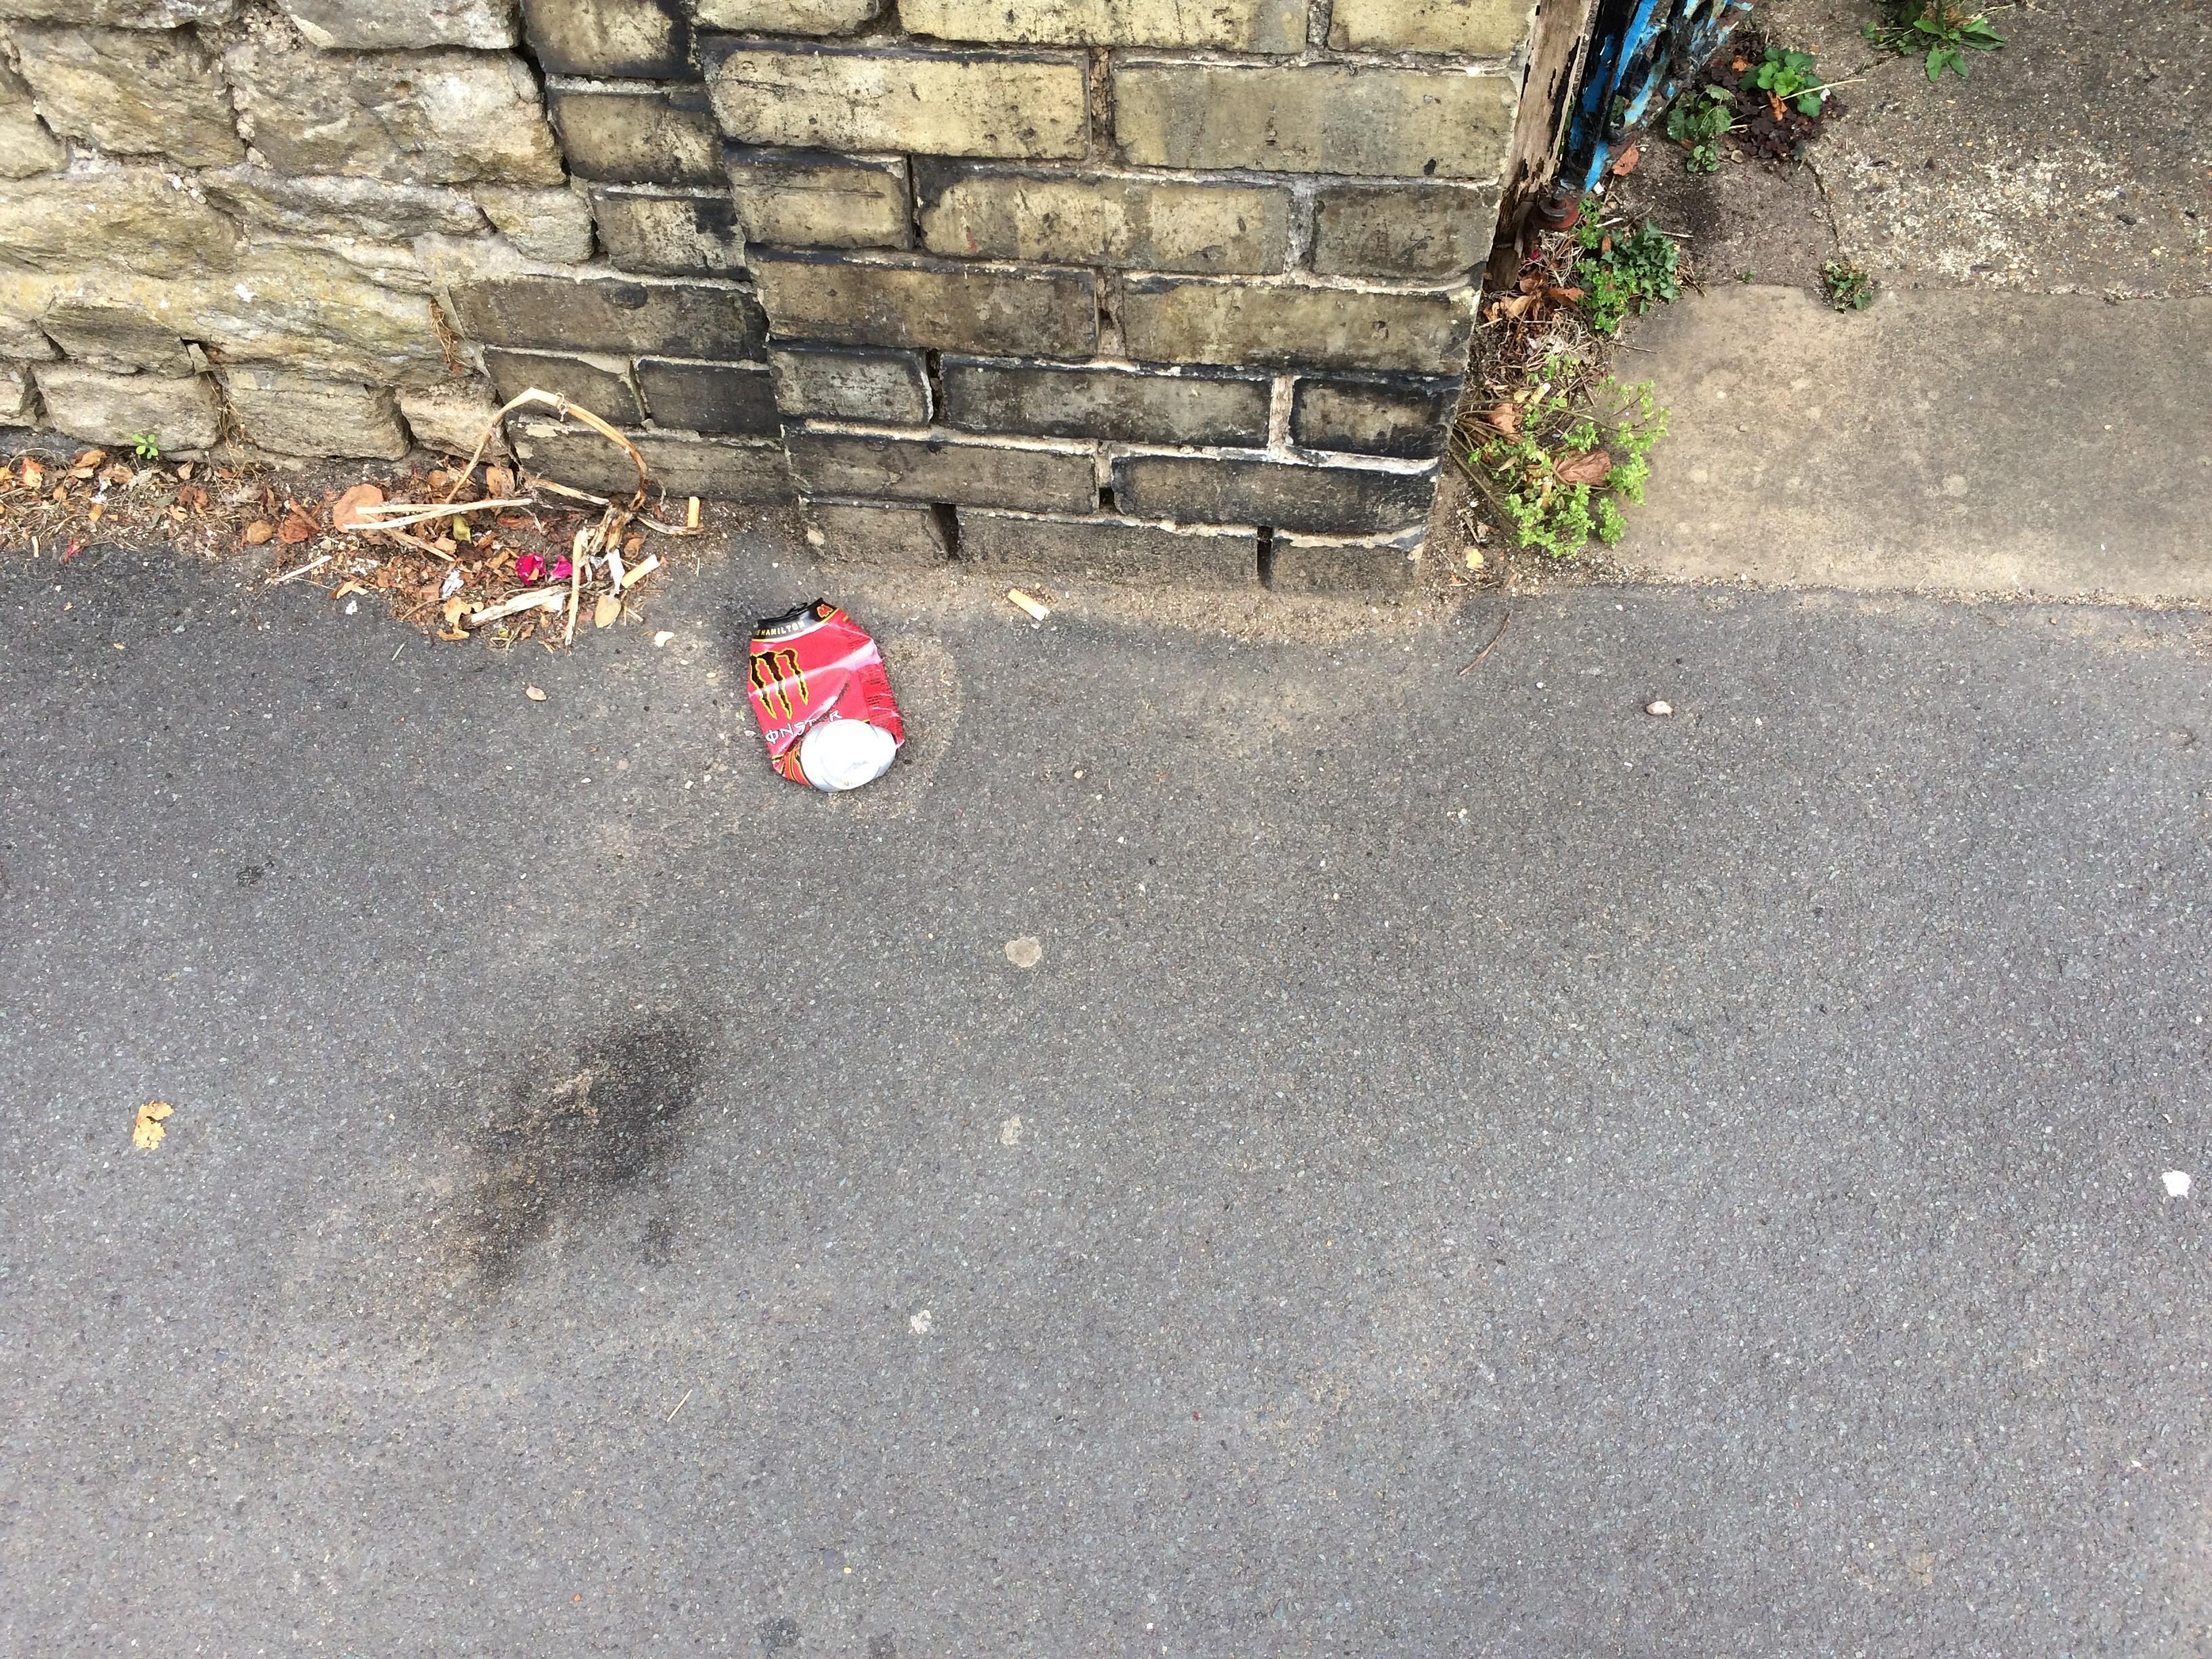Trash: (733, 594, 911, 798)
